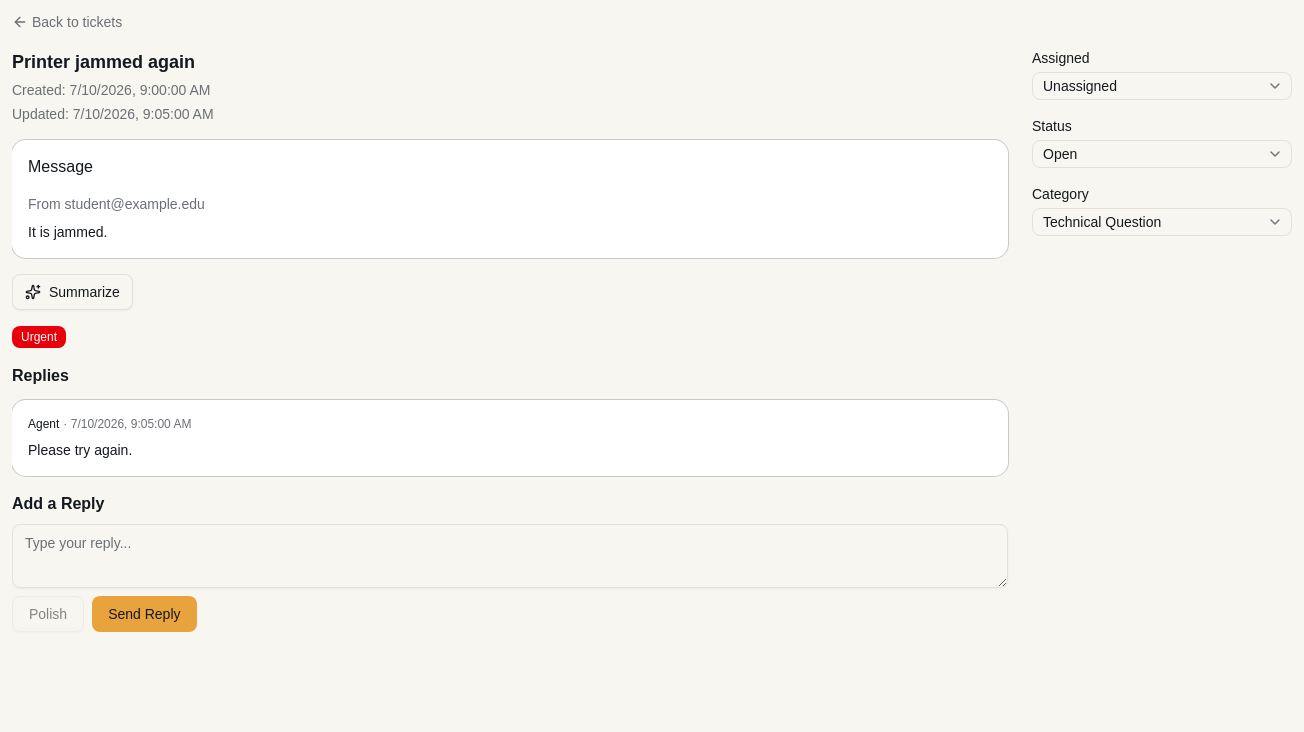
Scenario: TicketDetailPage › clears the category when No category is selected
The image size is (1304, 732).
Click the dropdown named "ticket category" at (1162, 222), box [1032,208,1292,236]
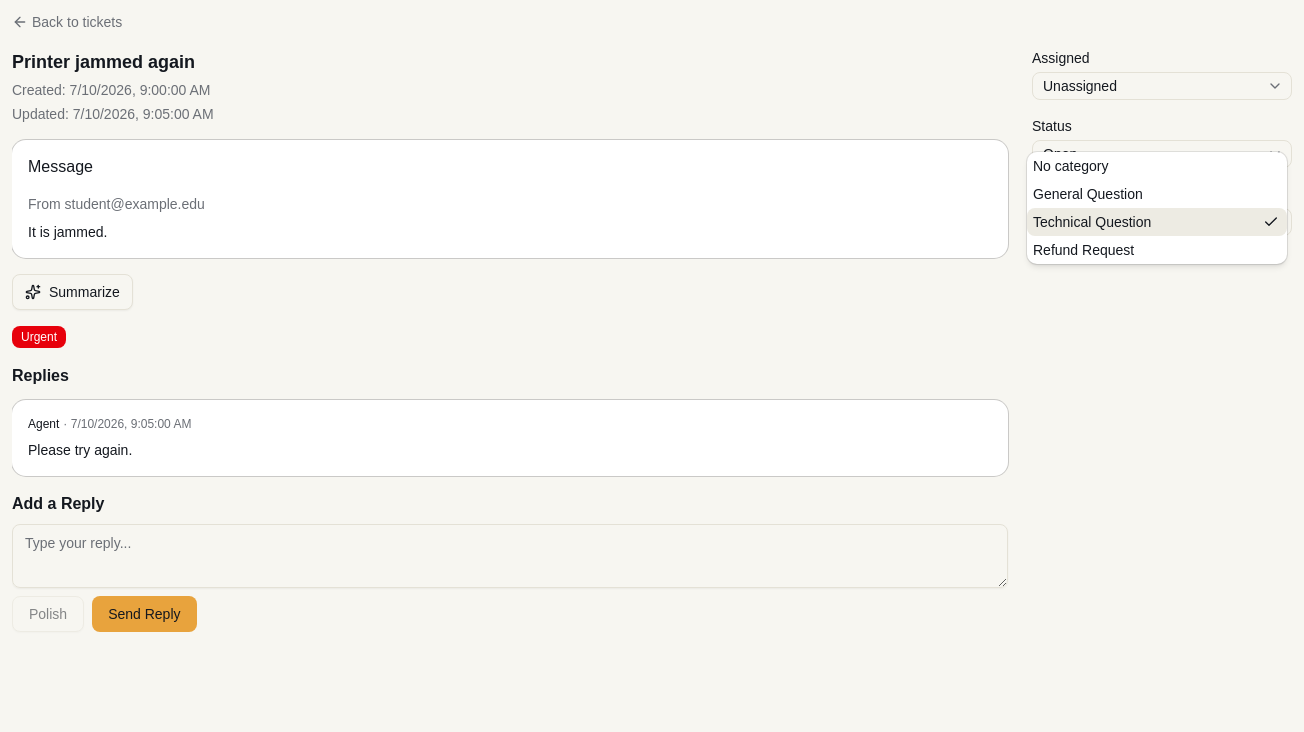
Click the option "No category" at (1071, 166), box [1033,158,1108,174]
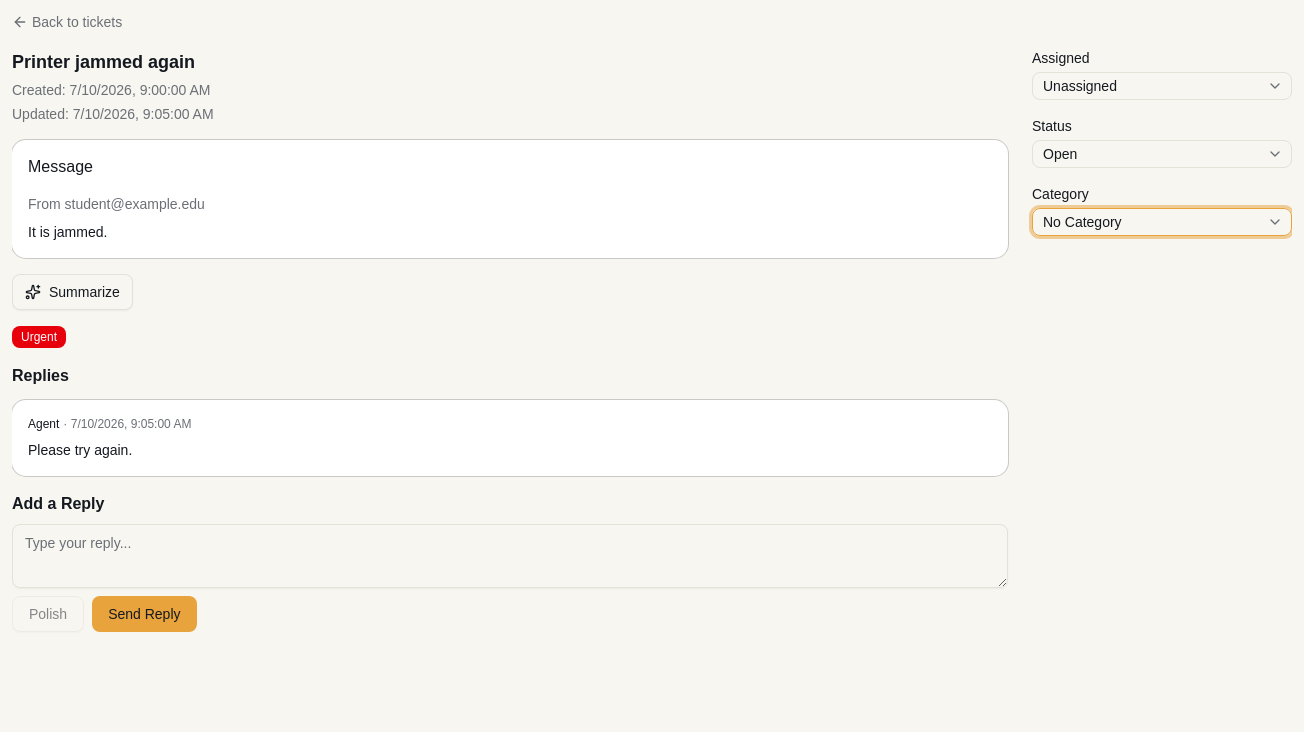
Expected: the dropdown named "ticket category" shows "No category", [1032,208,1292,236]
